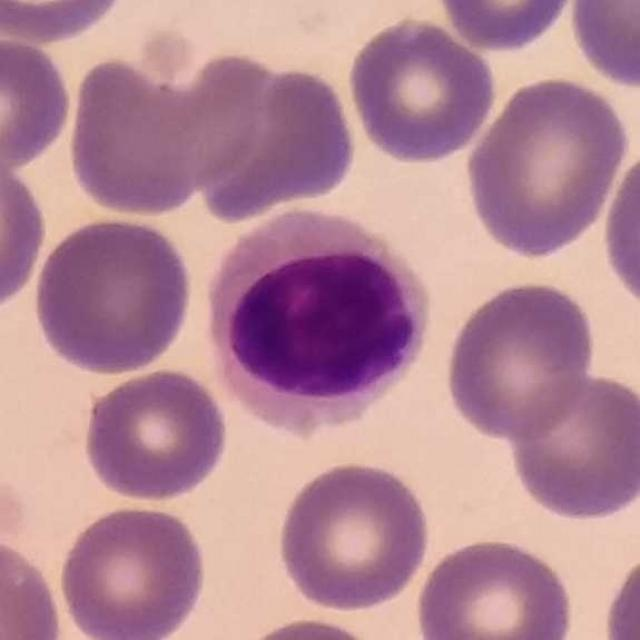Lymphocyte: (202, 212, 440, 438)
Platelets: (143, 27, 202, 83)
RBC: (174, 50, 360, 224), (461, 72, 631, 260), (30, 212, 196, 378), (63, 51, 224, 219), (439, 276, 598, 443), (273, 456, 433, 614), (345, 12, 499, 167), (54, 501, 210, 640), (79, 365, 232, 505), (504, 368, 640, 524), (410, 533, 578, 640), (0, 30, 77, 174), (0, 144, 50, 317), (432, 0, 581, 53), (0, 532, 68, 640), (599, 142, 640, 318), (565, 0, 639, 91), (0, 0, 132, 45), (228, 613, 394, 640), (599, 543, 640, 640)
